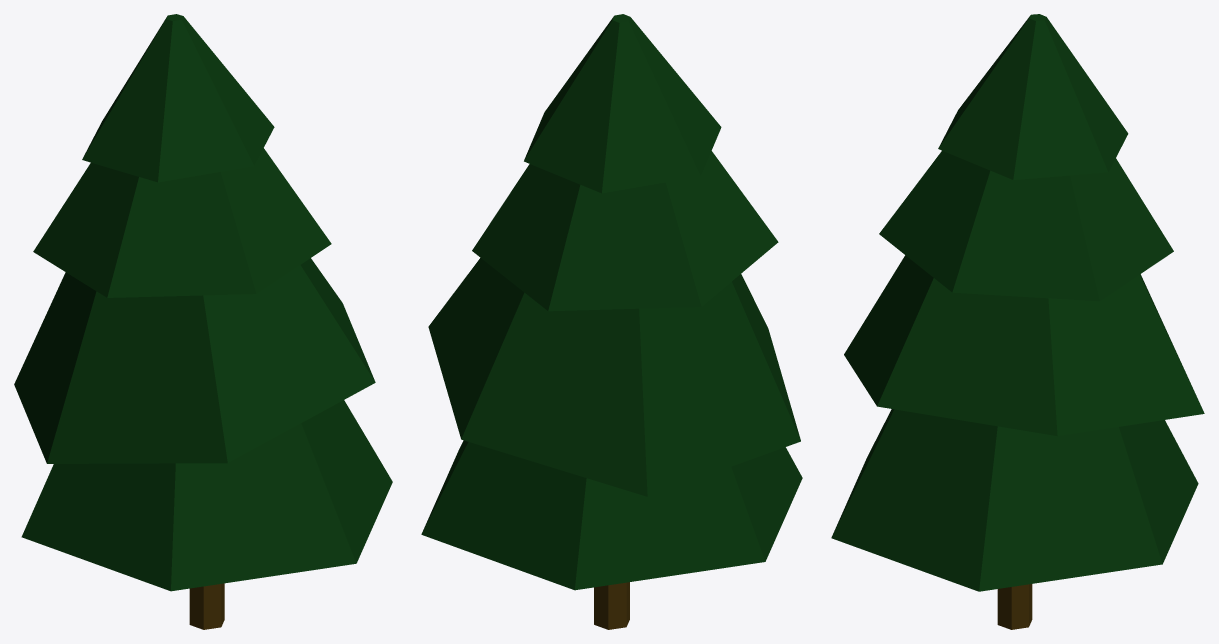
The model's file is pine5.glb.
3 renders of one model, left to right at view 1: azimuth 30°, elevation 25°; view 2: azimuth 150°, elevation 25°; view 3: azimuth 270°, elevation 25°, orthographic. The views are drawn at different scales.
Parts seen in each view (by area): view 1: prefab; view 2: prefab; view 3: prefab.
Part boxes in pixels (left/top/right/bottom): prefab: left=14, top=14, right=392, bottom=629; prefab: left=421, top=14, right=802, bottom=629; prefab: left=831, top=14, right=1204, bottom=629.
Bounding box in the file's own units: 4.73 × 8 × 4.55.
